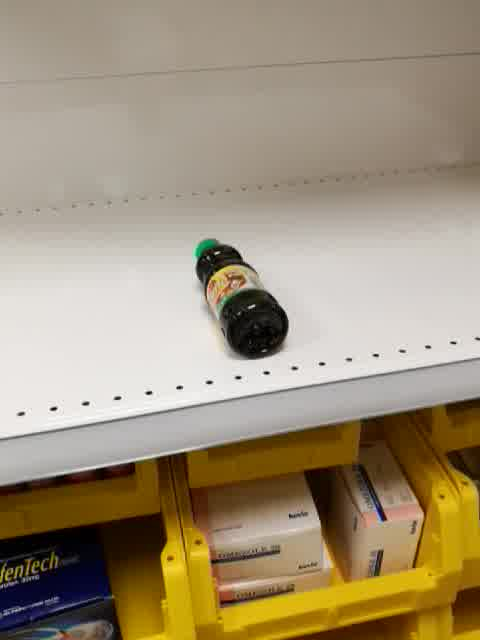cookingoil: (192, 234, 291, 361)
